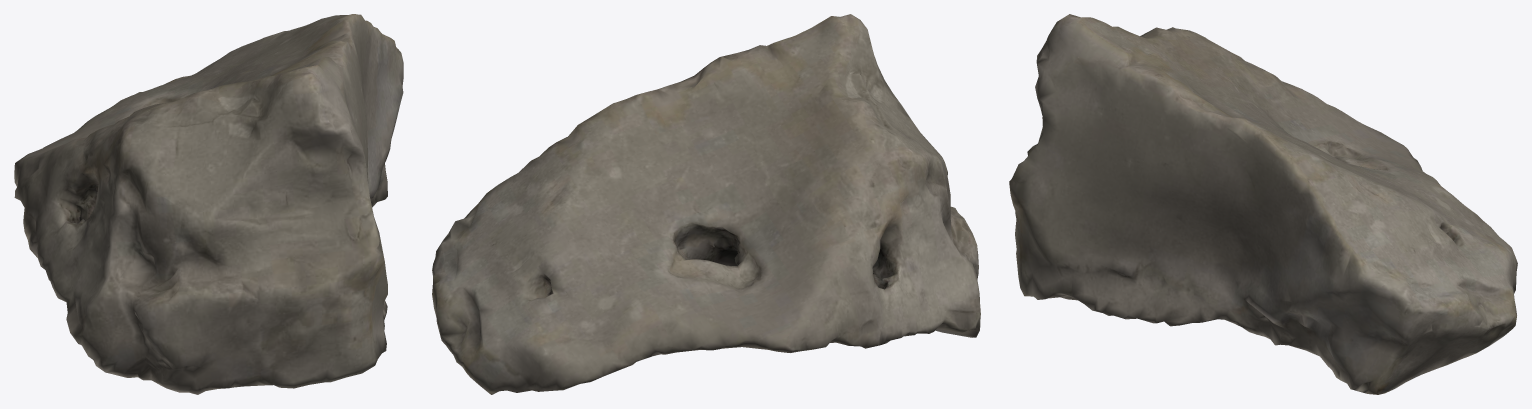
File: moon_rock_06.glb
3 renders of one model, left to right at view 1: azimuth 30°, elevation 25°; view 2: azimuth 150°, elevation 25°; view 3: azimuth 270°, elevation 25°, orthographic. The views are drawn at different scales.
Visible parts, largest first — view 1: lod0; view 2: lod0; view 3: lod0.
Boxes of the visible parts, box(x1,y1,x2,y2) form: lod0: box(14, 14, 403, 394); lod0: box(432, 14, 980, 394); lod0: box(1009, 14, 1517, 394).
Size of what is drawn, in the model's own units: 2.26 by 1.45 by 2.42.
1 material, 1 textured.
